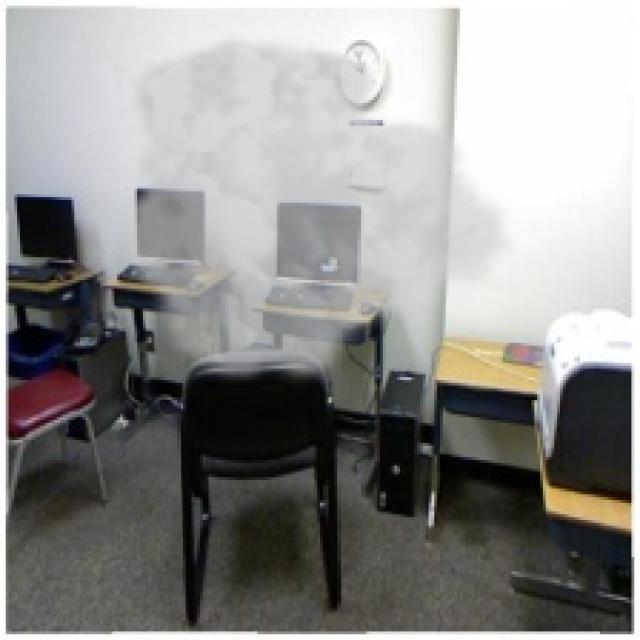smoke: (114, 31, 520, 392)
